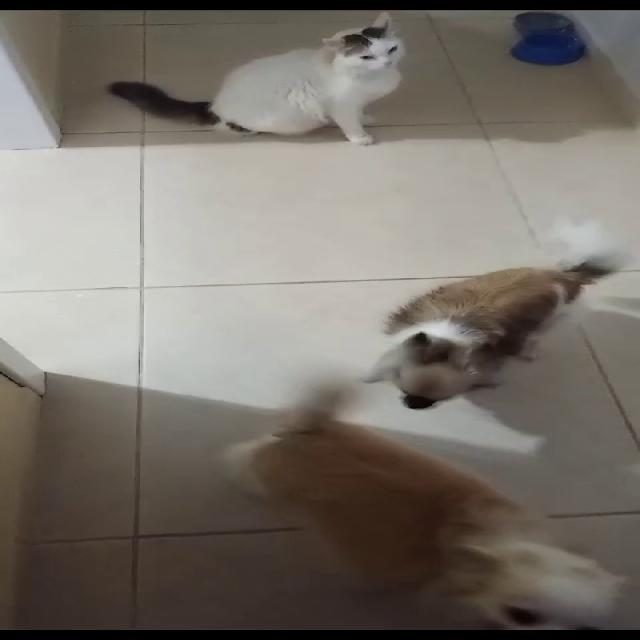Pedrita: (284, 211, 638, 425)
Theo: (160, 348, 632, 640)
